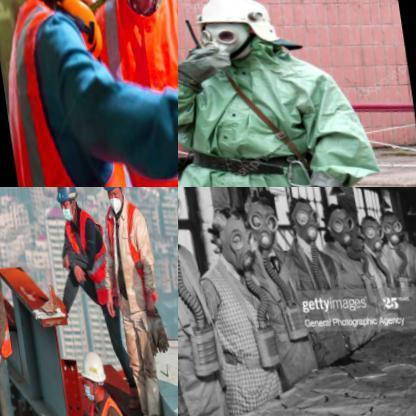vest: (178, 19, 396, 186), (0, 0, 153, 186), (94, 0, 177, 186), (97, 193, 157, 301), (59, 199, 114, 311), (81, 386, 134, 415), (0, 249, 14, 358)
